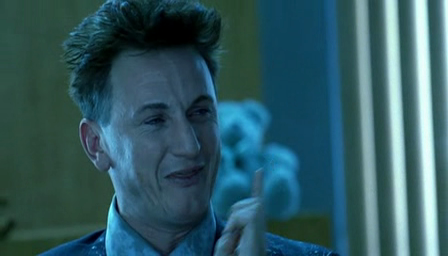cu: (1, 1, 448, 256)
face: (119, 63, 222, 221)
person: (33, 1, 343, 256)
